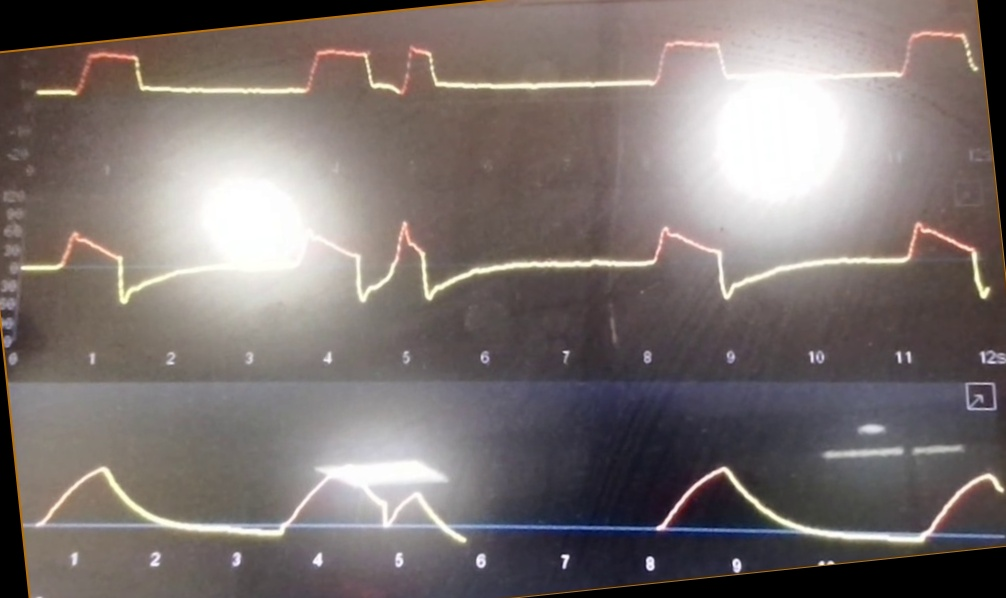Double_Triggering Flow: (24, 202, 865, 317)
Double_Triggering Volume: (40, 418, 756, 548)
